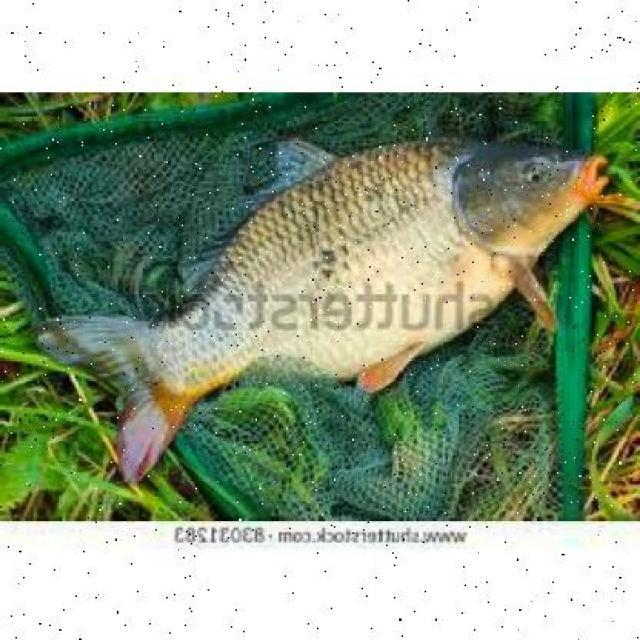ikan-mas: (92, 132, 612, 472)
